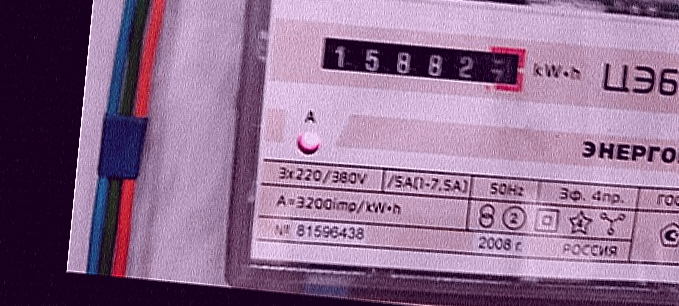1: (329, 44, 346, 70)
2: (455, 53, 474, 80)
5: (360, 47, 379, 73)
7: (486, 66, 501, 83)
8: (391, 50, 411, 75), (423, 51, 442, 77)
screen: (304, 22, 535, 103)
